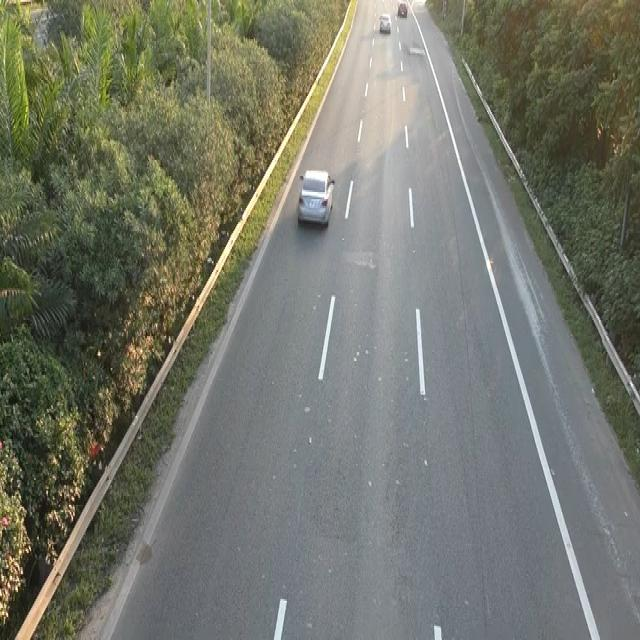bus: (296, 165, 335, 228)
